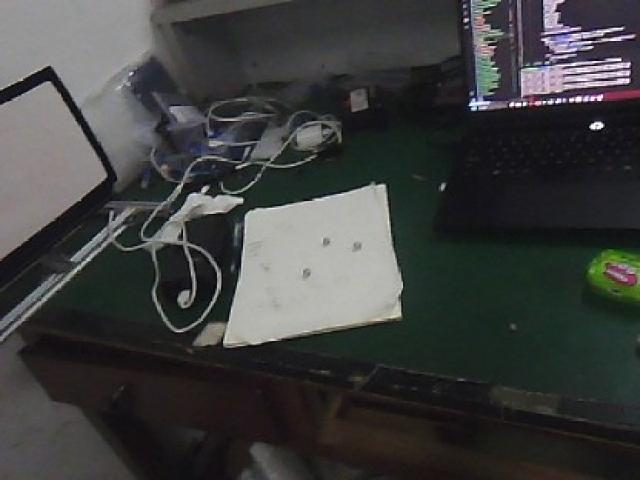steel-ball: (283, 253, 315, 282), (303, 226, 342, 249), (343, 231, 363, 260)
